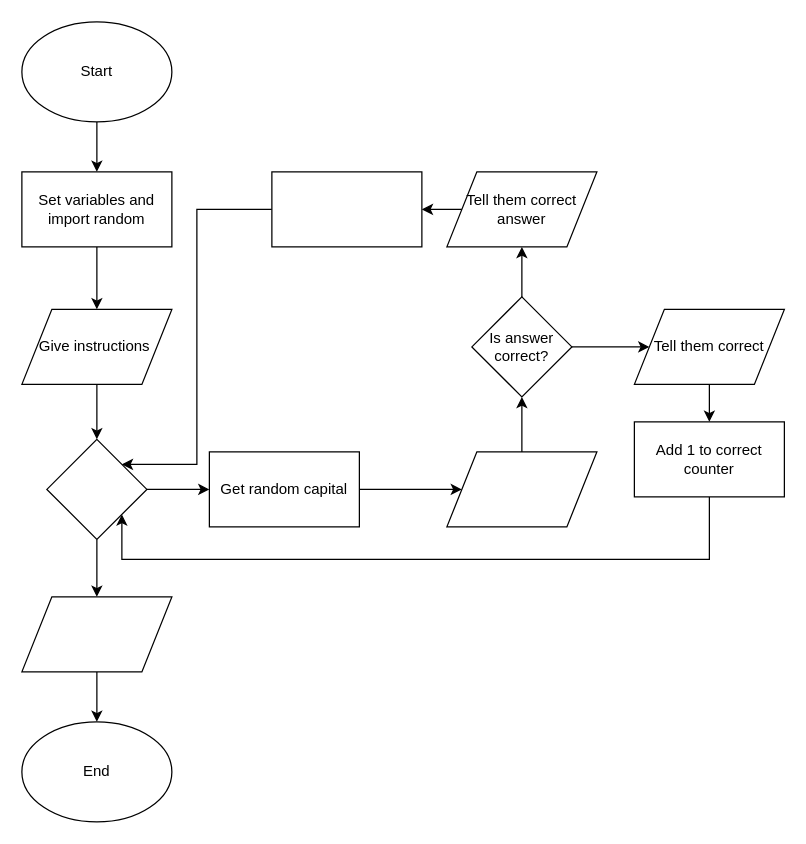
Image size: 806x844. Some labels were removed from this diagram. The shapes that lost their labels are listed below. From the top down, each one's centre as x and y in pixels, then its label:
(346,209): Add 1 to incorrect counter
(96,488): While guess != quit
(521,489): Ask question and get answer as input
(96,634): Print final score
